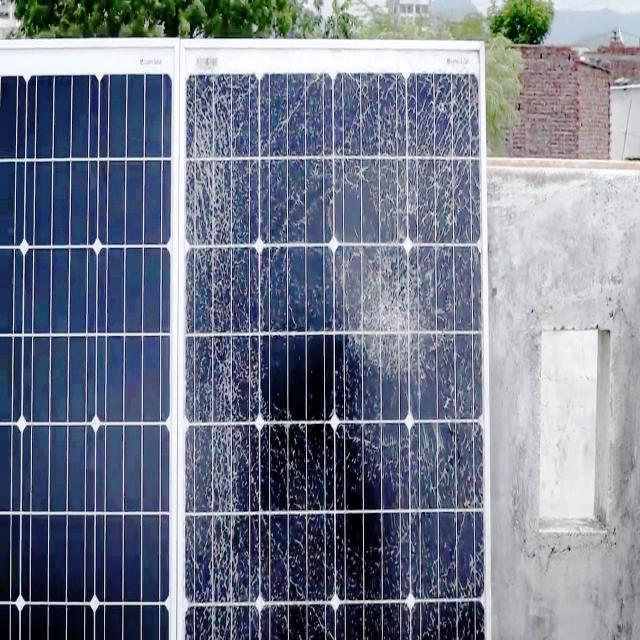faulty: (186, 55, 490, 638)
no faulty: (0, 48, 175, 640)
